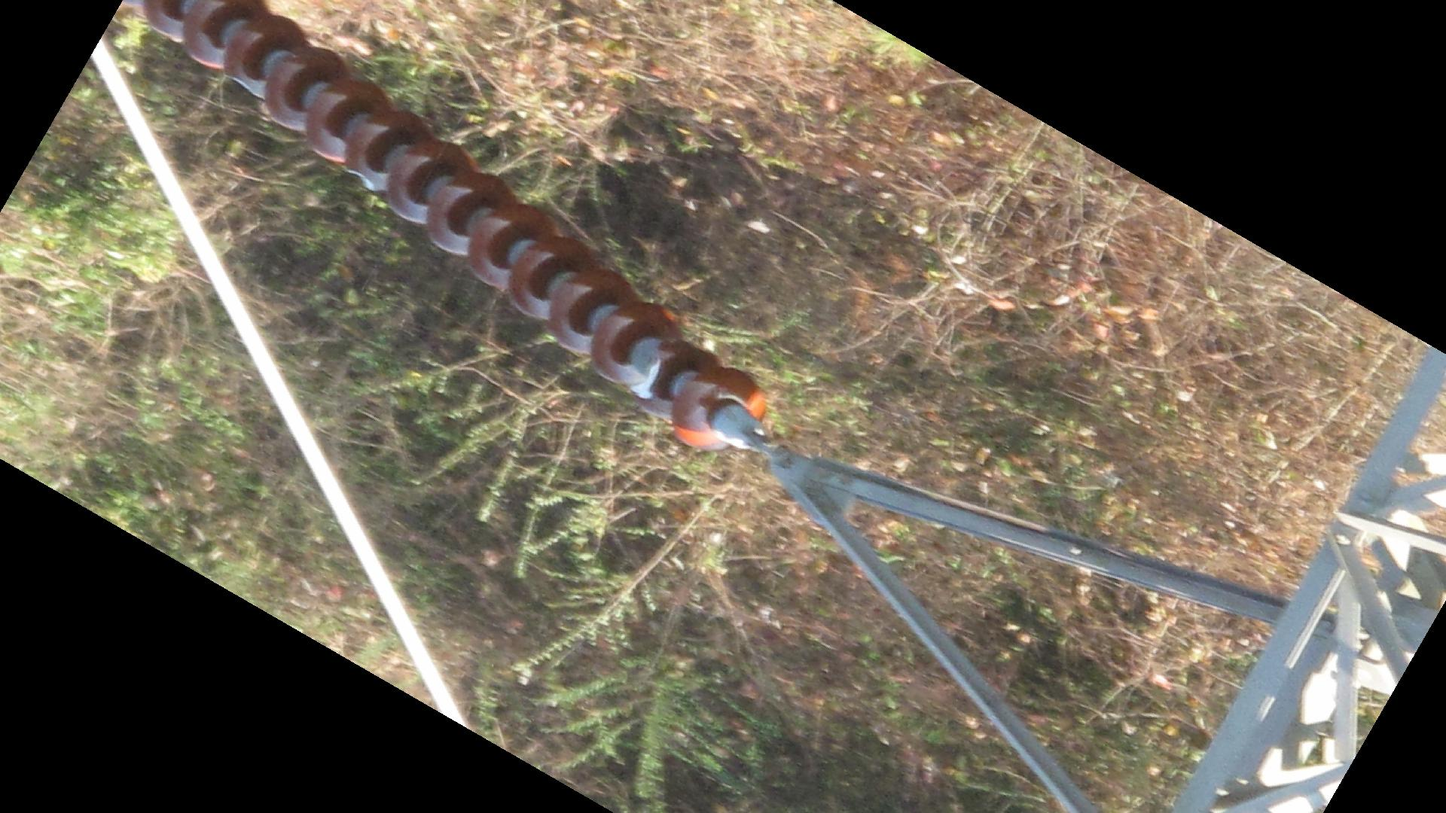insulator: (132, 1, 771, 461)
insulator_breakage: (623, 338, 670, 407)
